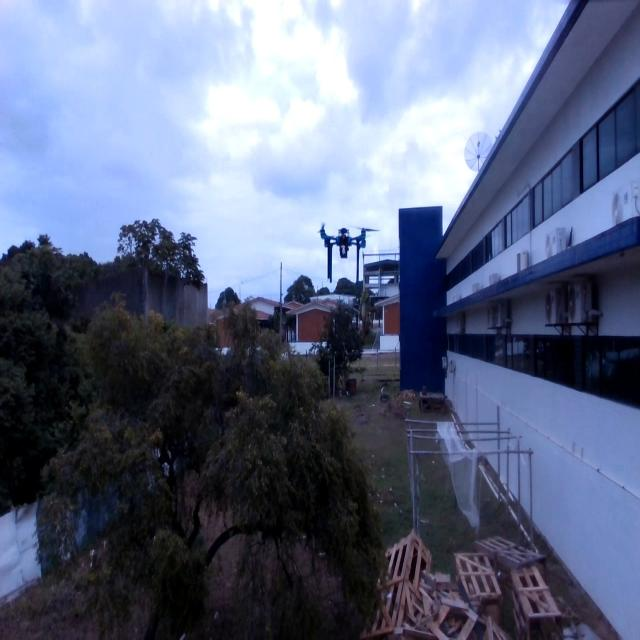-uav-: (312, 207, 384, 304)
